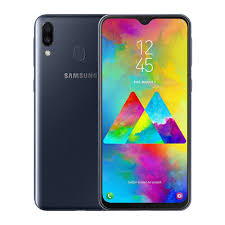samsung: (32, 9, 191, 212)
